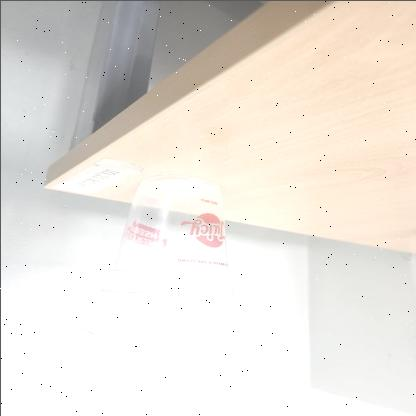Others: (92, 171, 244, 306)
